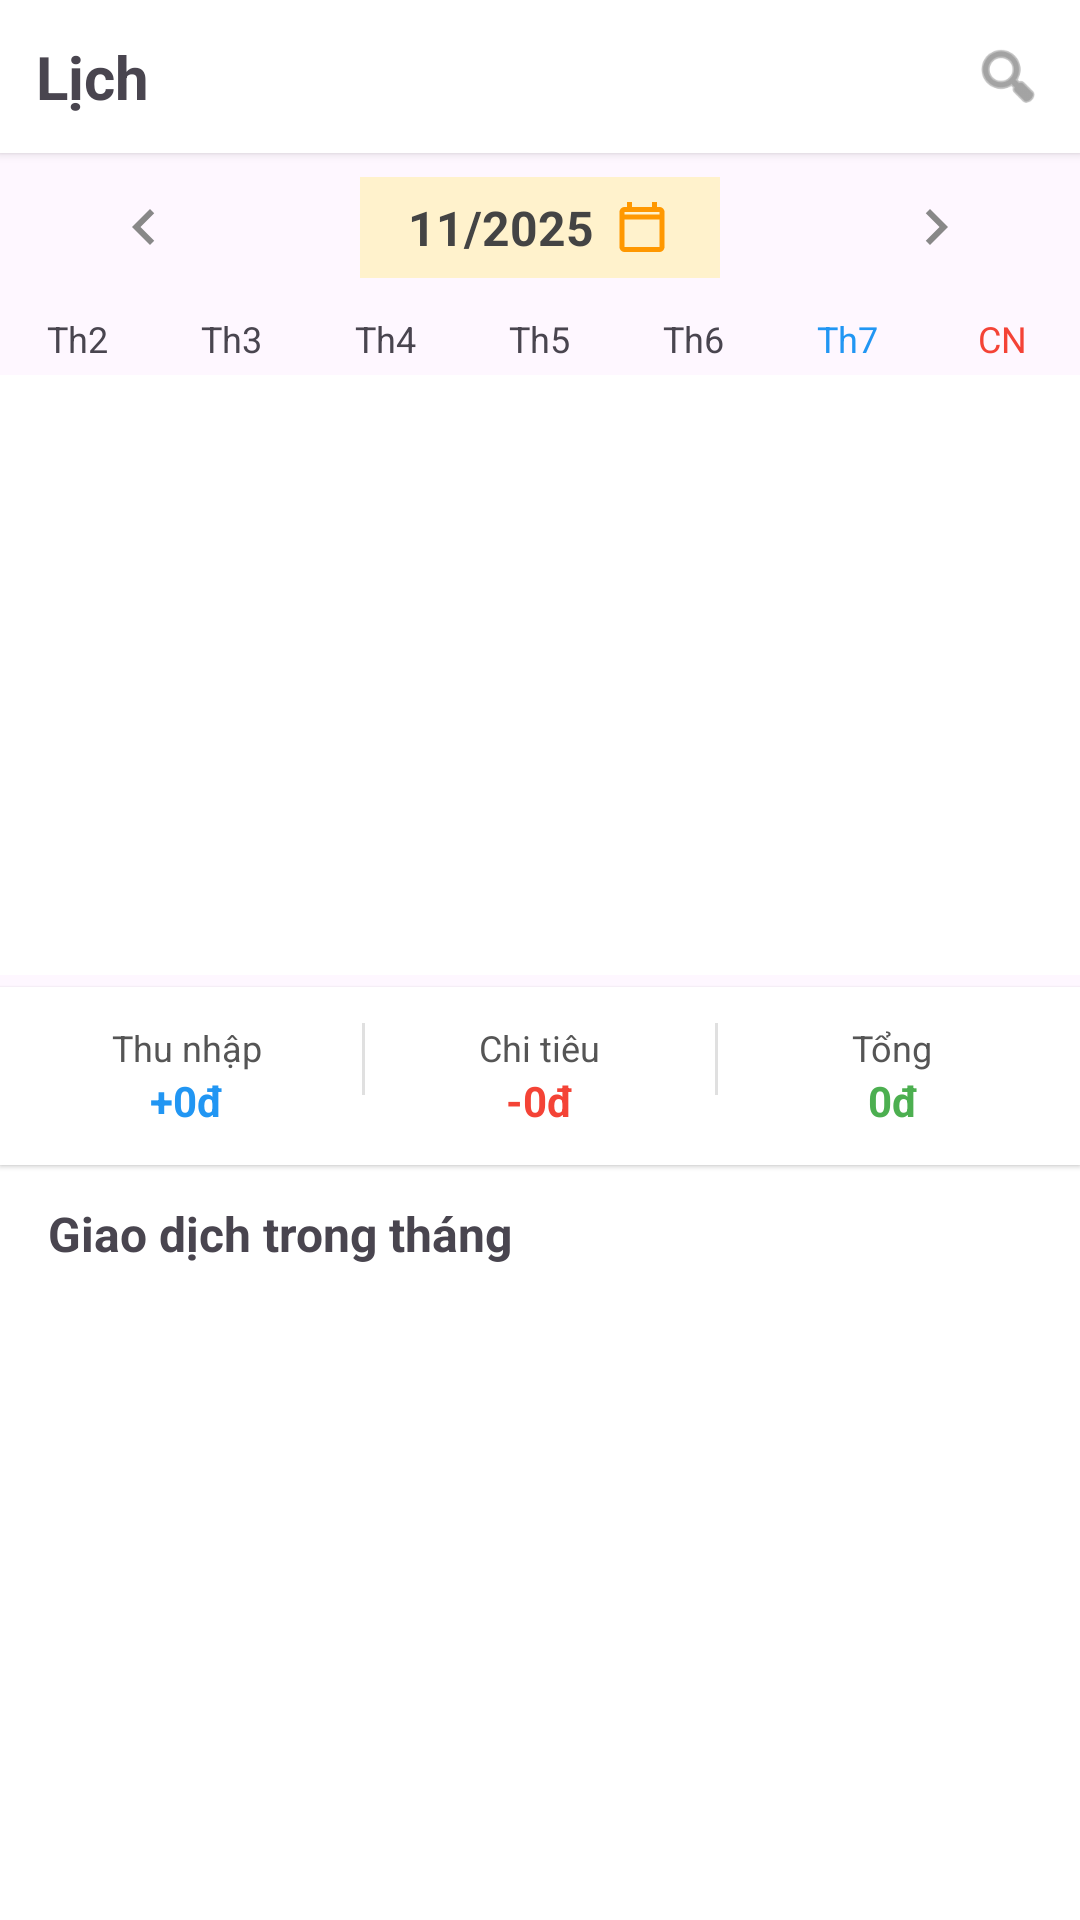

Point at icon controls on the screen. Image size 1080 x 1920, points as (x=x, y=y).
arrow left: (x=143, y=227)
arrow right: (x=937, y=227)
calendar: (x=642, y=227)
search: (x=1007, y=76)
